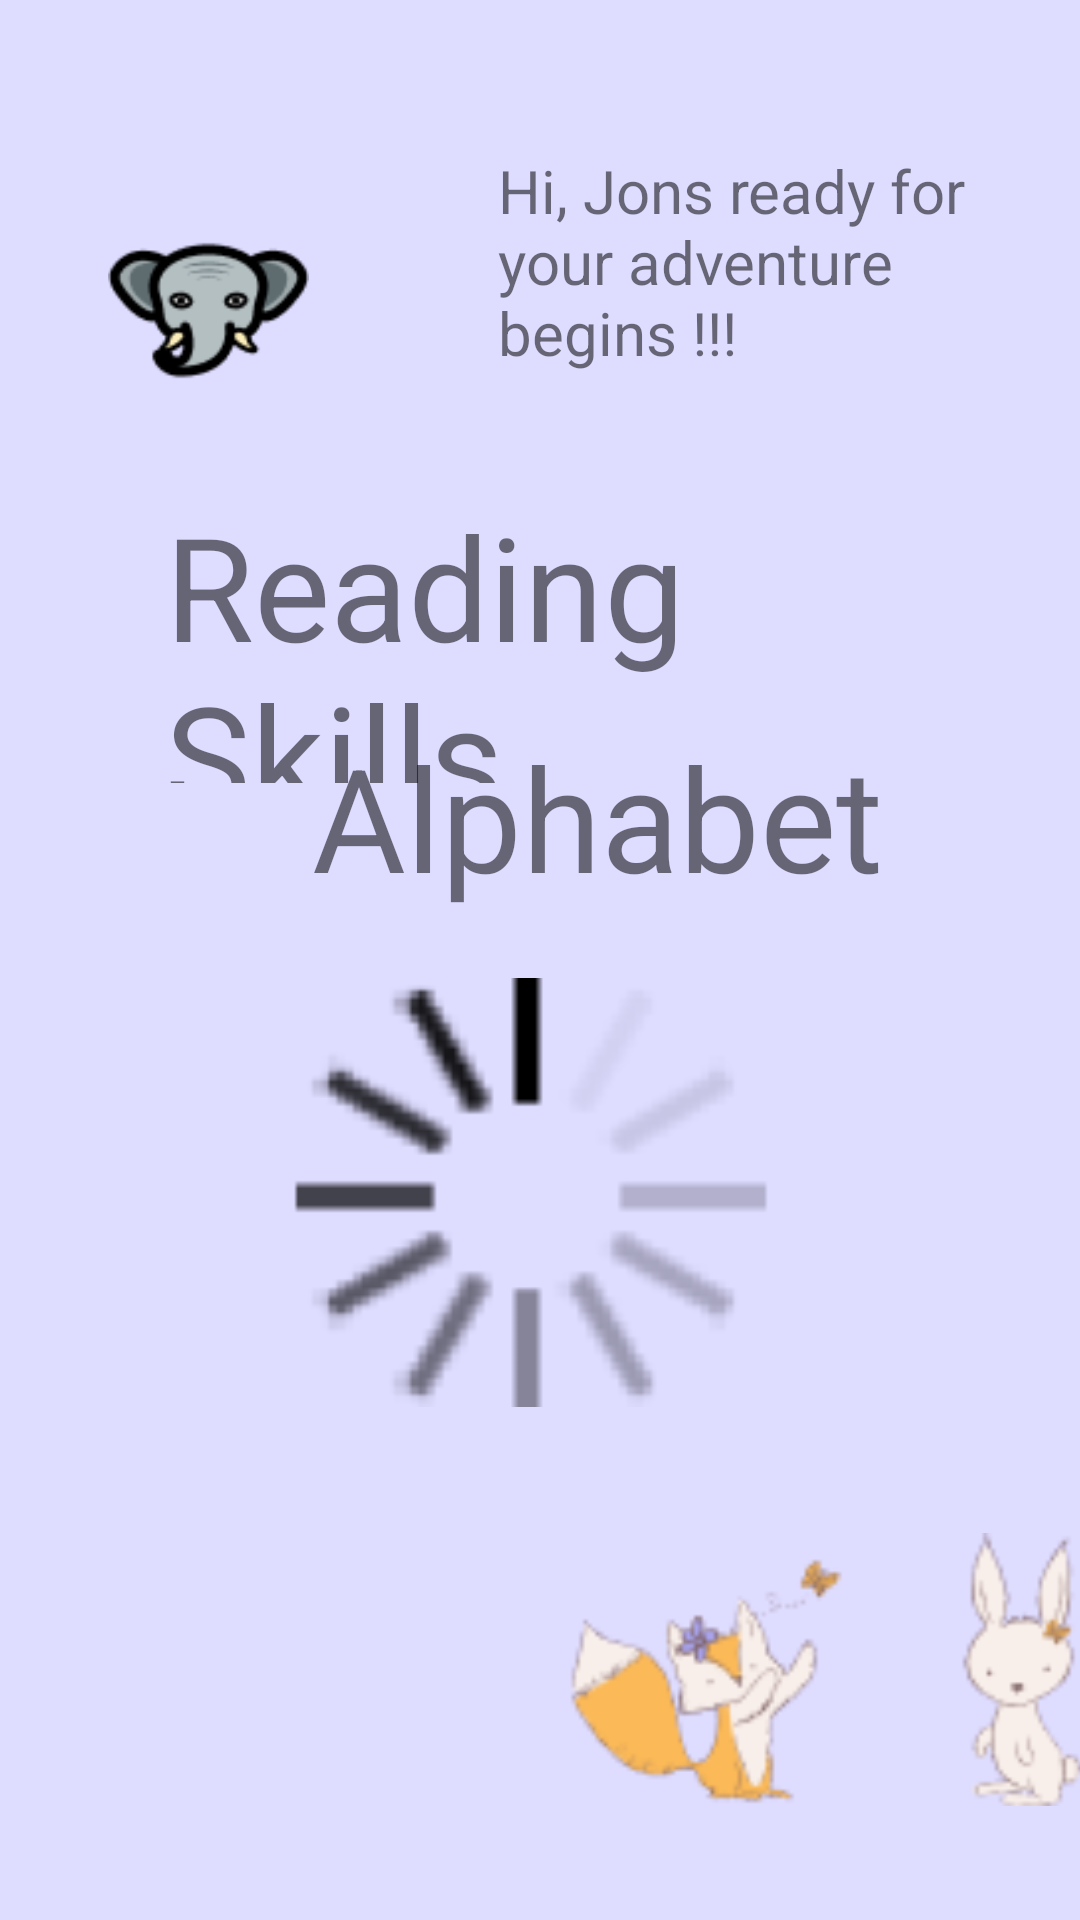

Where to tap for icons on this 1080px×1920px app screen, as (x=x, y=y):
gajah load: (x=208, y=310)
